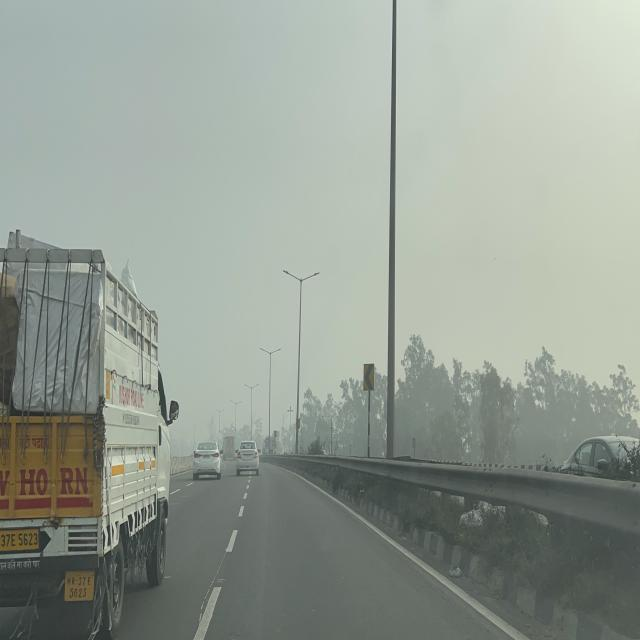TURN_LEFT: (364, 363, 374, 391), (296, 418, 300, 429), (274, 431, 277, 437)
